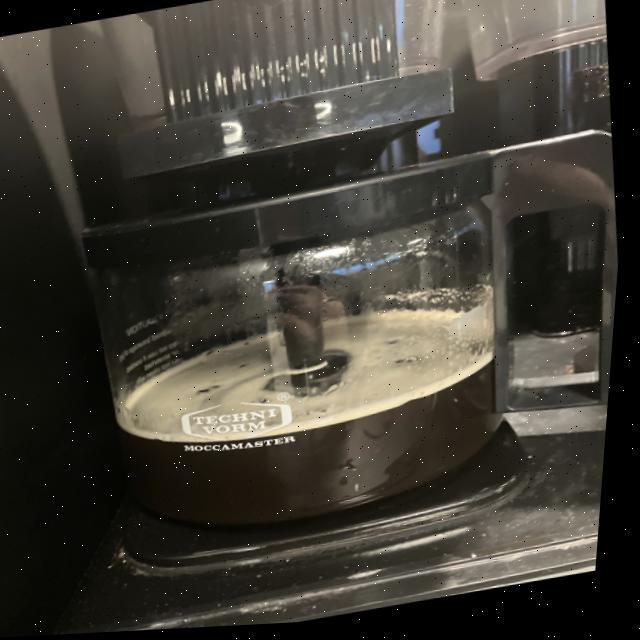coffee: (73, 155, 578, 557)
